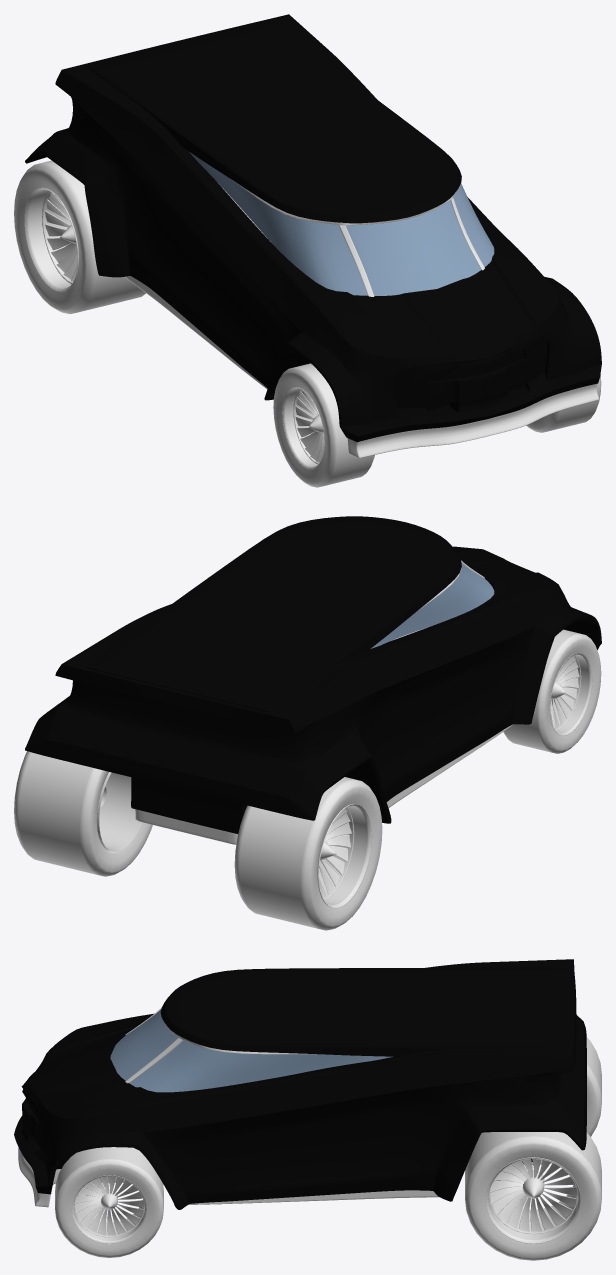
The model's file is car.fbx.
3 views of the same model, one above another, from view 1: azimuth 30°, elevation 25°; view 2: azimuth 150°, elevation 25°; view 3: azimuth 270°, elevation 25° (orthographic). The views are drawn at different scales.
Parts seen in each view (by area): view 1: chassis, cockpit, right_br_wheel, right_fr_wheel, Plane.002, right_br_disk, cockpit.frame, right_fr_disk, left_fr_wheel; view 2: chassis, right_br_wheel, left_br_wheel, right_fr_wheel, cockpit, Plane.002, right_br_disk, right_fr_disk; view 3: chassis, left_br_wheel, cockpit, left_fr_wheel, left_br_disk, left_fr_disk, Plane.002, right_br_wheel, cockpit.frame.
Part boxes in pixels (bbox=[...]): chassis: bbox=[25, 14, 601, 442]; cockpit: bbox=[189, 152, 494, 295]; right_br_wheel: bbox=[14, 160, 145, 314]; right_fr_wheel: bbox=[273, 363, 374, 487]; Plane.002: bbox=[125, 183, 598, 458]; right_br_disk: bbox=[45, 192, 77, 281]; cockpit.frame: bbox=[231, 179, 484, 296]; right_fr_disk: bbox=[295, 390, 324, 462]; left_fr_wheel: bbox=[526, 374, 601, 432]; chassis: bbox=[25, 516, 601, 833]; right_br_wheel: bbox=[234, 777, 382, 930]; left_br_wheel: bbox=[14, 751, 152, 876]; right_fr_wheel: bbox=[503, 629, 601, 753]; cockpit: bbox=[370, 563, 494, 648]; Plane.002: bbox=[135, 628, 513, 844]; right_br_disk: bbox=[318, 809, 351, 897]; right_fr_disk: bbox=[550, 656, 579, 729]; chassis: bbox=[14, 959, 586, 1209]; left_br_wheel: bbox=[465, 1132, 601, 1260]; cockpit: bbox=[110, 1009, 392, 1092]; left_fr_wheel: bbox=[55, 1147, 163, 1257]; left_br_disk: bbox=[490, 1159, 576, 1231]; left_fr_disk: bbox=[74, 1176, 143, 1235]; Plane.002: bbox=[18, 1147, 551, 1207]; right_br_wheel: bbox=[532, 1037, 601, 1165]; cockpit.frame: bbox=[125, 1008, 316, 1083].
Bounding box in the file's own units: 175 × 123 × 339.
